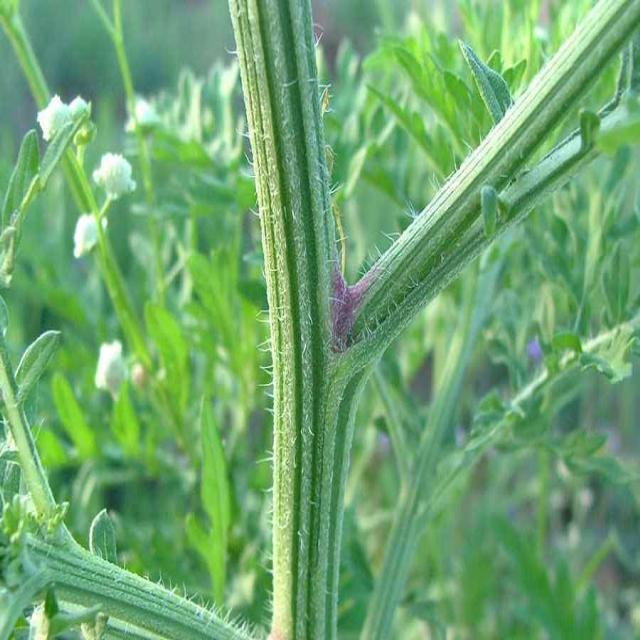Poisonous-Parthenium: (224, 0, 640, 640)
